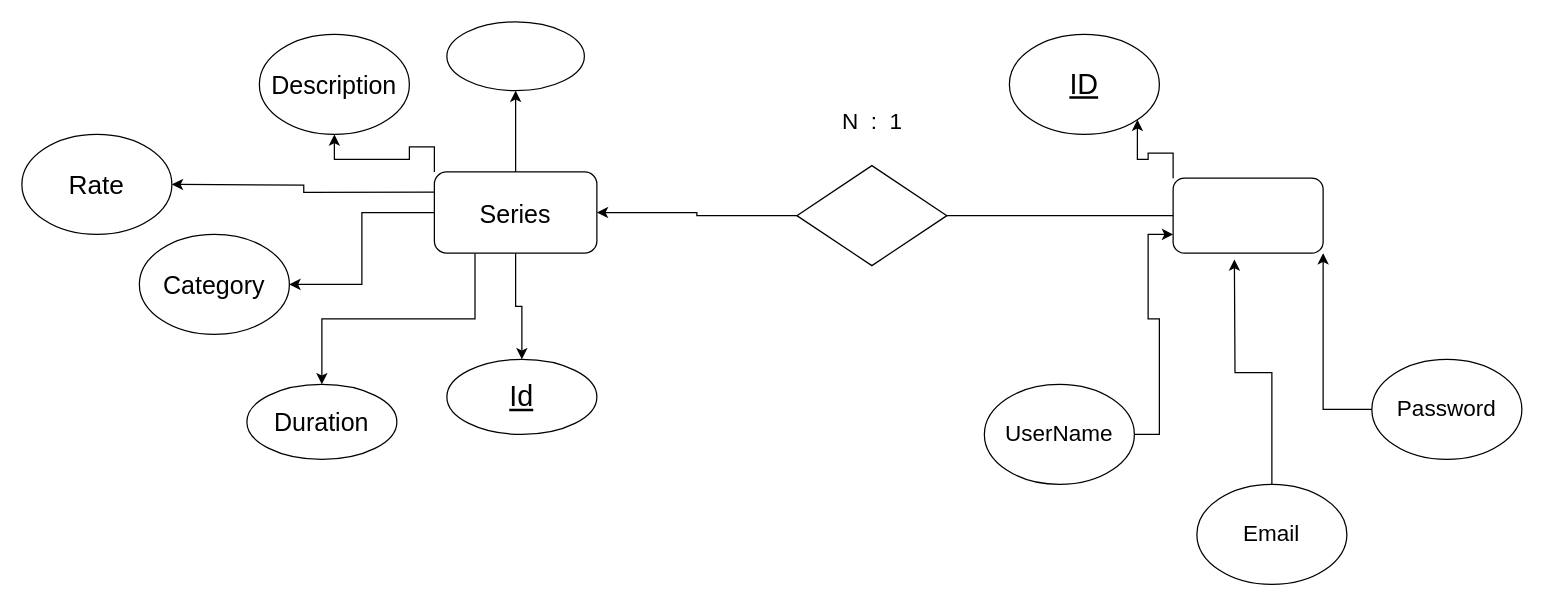
Some shapes in this 1544 by 606 pixel diagram are drawn without their labels. Each missing label, with the centre of its shape:
"Title" goes at (515,56).
"User" goes at (1247,215).
"Watches" goes at (871,215).
